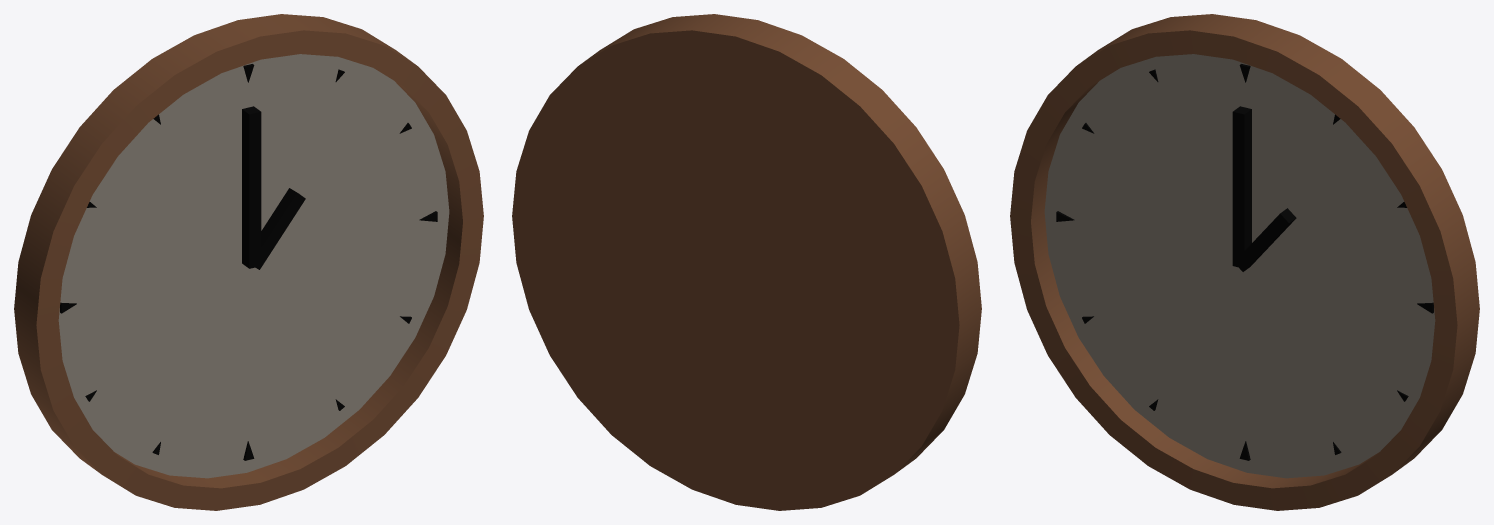
Rendered from reloj.fbx.
The picture shows the model from 3 angles, left to right: view 1: azimuth 30°, elevation 25°; view 2: azimuth 150°, elevation 25°; view 3: azimuth 330°, elevation 25°; orthographic projection.
Parts seen in each view (by area): view 1: Circle.002, Circle.020, Cube.018, Cube.019; view 2: Circle.002; view 3: Circle.002, Circle.020, Cube.018, Cube.019.
Boxes of the visible parts, box(x1,y1,x2,y2) form: Circle.002: box(14, 14, 483, 510); Circle.020: box(59, 54, 448, 477); Cube.018: box(242, 106, 261, 268); Cube.019: box(255, 188, 305, 269); Circle.002: box(512, 14, 981, 510); Circle.002: box(1010, 14, 1479, 510); Circle.020: box(1045, 54, 1434, 477); Cube.018: box(1232, 106, 1251, 268); Cube.019: box(1234, 208, 1296, 271).
Size of the model in its own units: 25.89 by 25.89 by 2.31.
